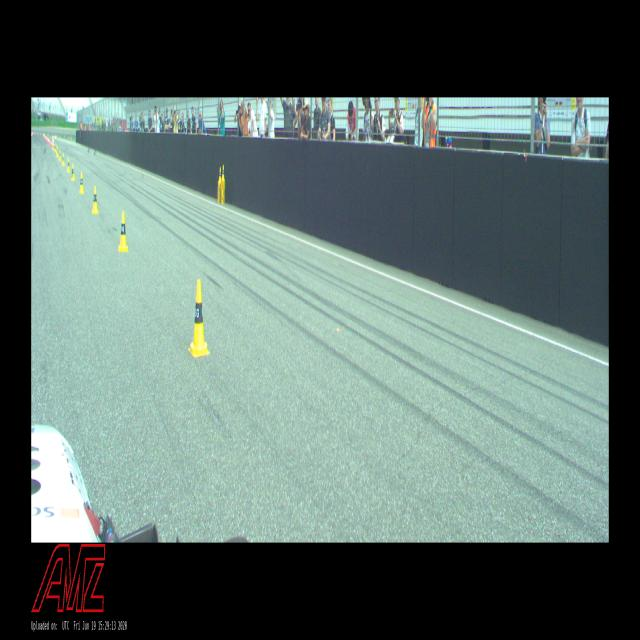large_orange_cone: (52, 137, 54, 148)
yellow_cone: (188, 279, 210, 357), (118, 212, 128, 251), (92, 186, 99, 214), (79, 172, 85, 192), (71, 164, 75, 180), (218, 167, 222, 182), (66, 158, 70, 172), (222, 165, 225, 180), (62, 153, 65, 165), (59, 150, 61, 161), (56, 148, 58, 157), (54, 144, 56, 151)
